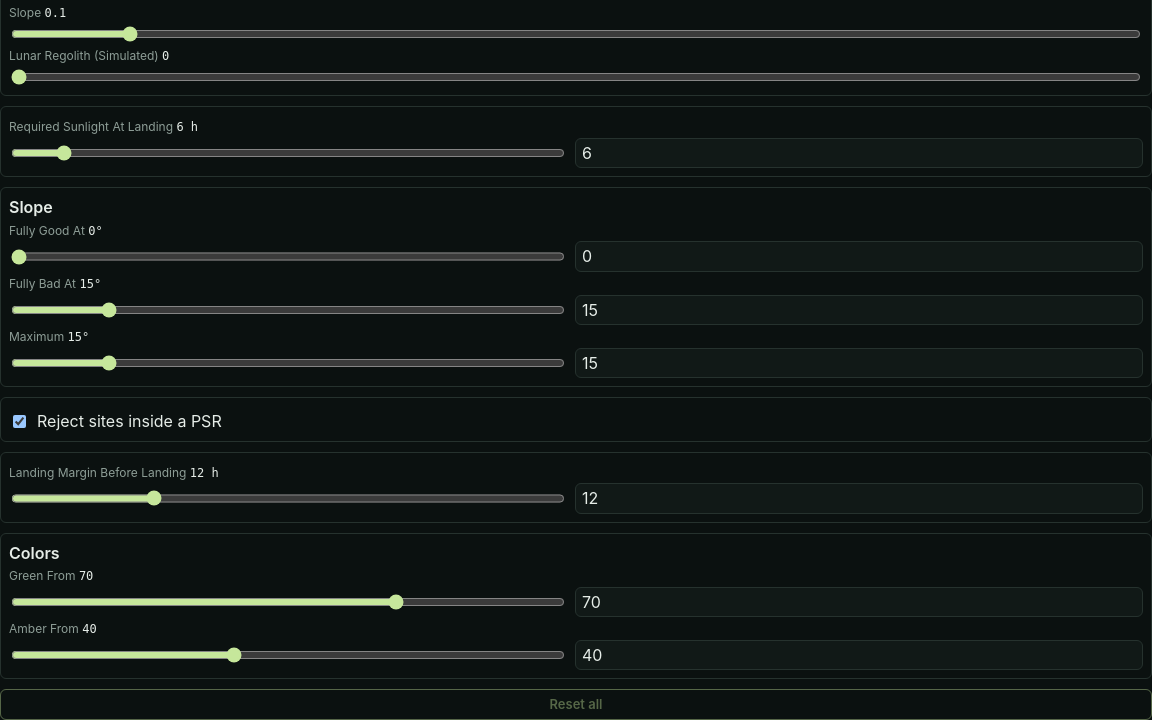
Scenario: amber above green is refused
The image size is (1152, 720).
(page scrolled)
Replace the text in the field named "Amber from, exact value" with "80" at {"x": 859, "y": 655}, box x1=575 y1=640 x2=1143 y2=670
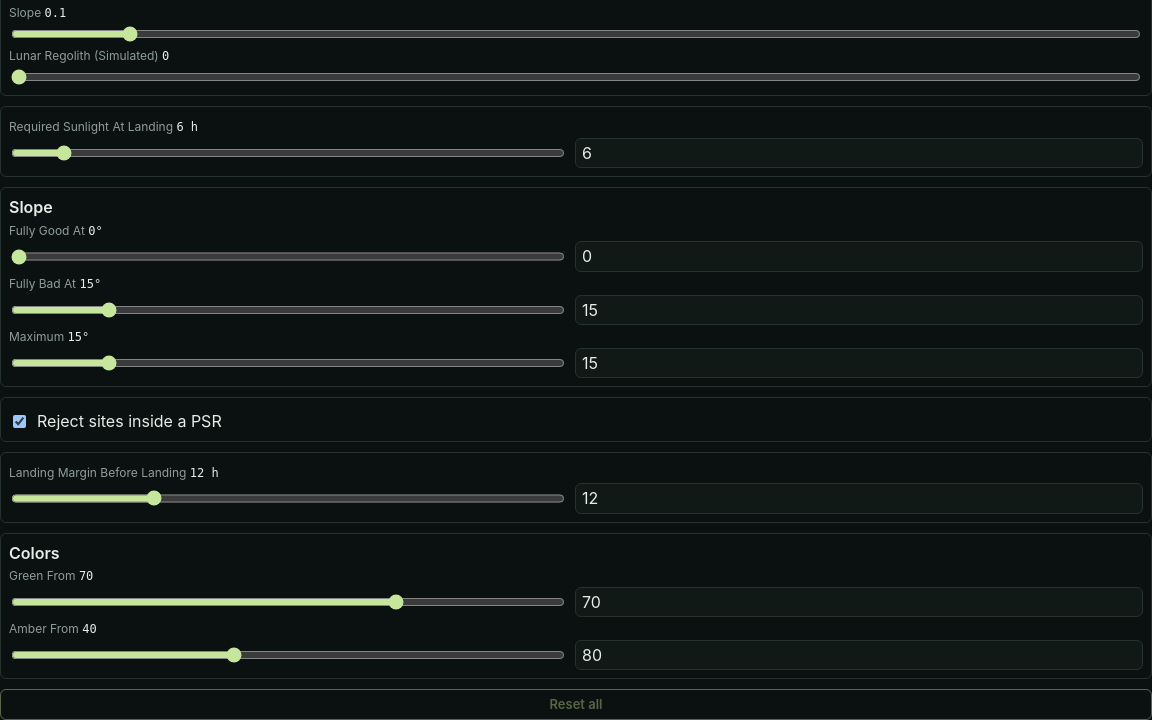
Leave the field named "Amber from, exact value", box x1=575 y1=640 x2=1143 y2=670
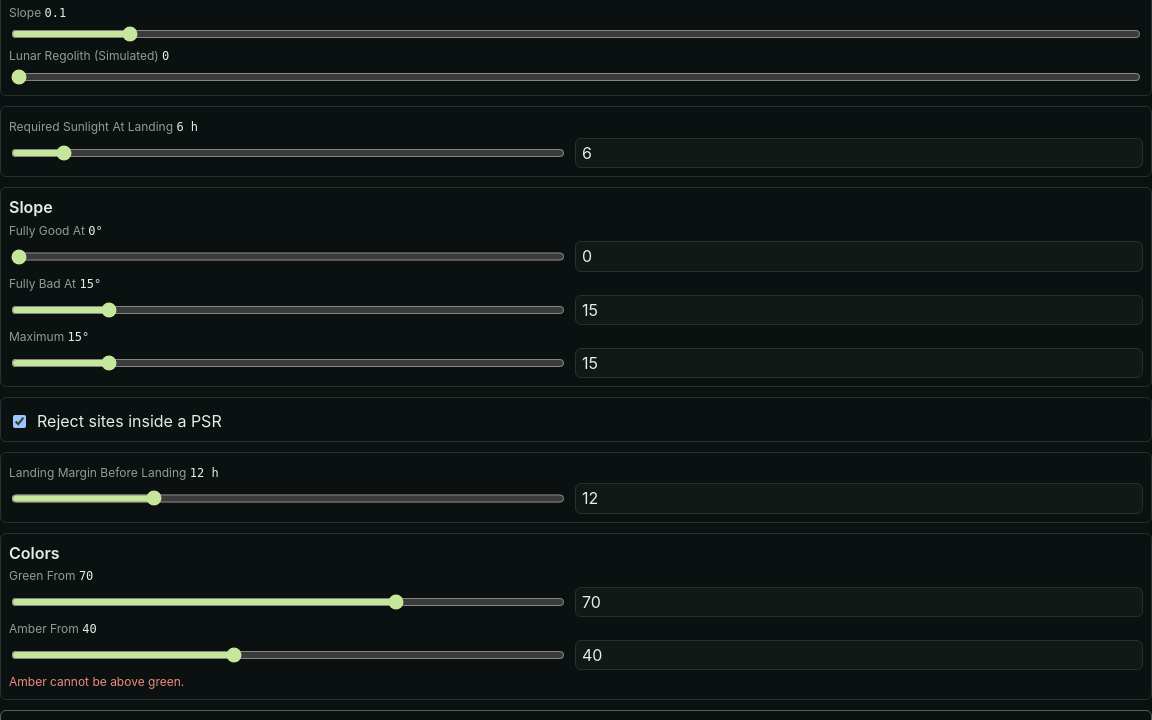
Check: the text "Amber cannot be above green." is shown, box x1=9 y1=674 x2=184 y2=690
